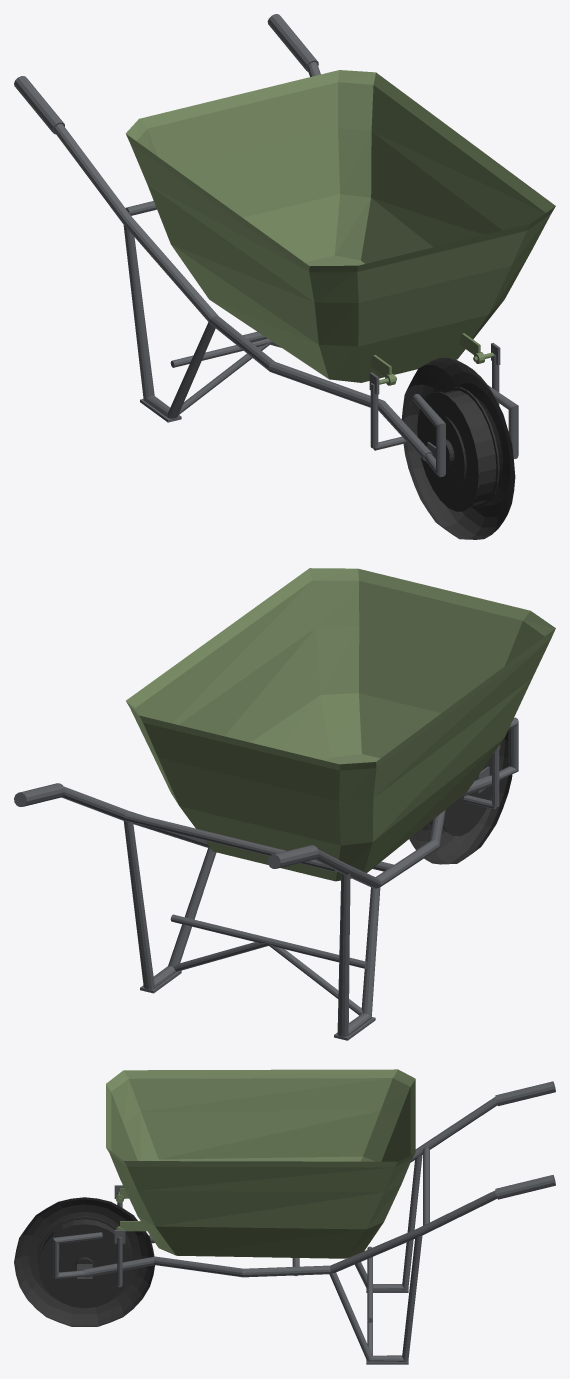
The picture shows the model from 3 angles, top to bottom: view 1: azimuth 30°, elevation 25°; view 2: azimuth 150°, elevation 25°; view 3: azimuth 270°, elevation 25°; orthographic projection. The views are drawn at different scales.
Visible parts, largest first — view 1: tray, chassis, wheel; view 2: tray, chassis, wheel; view 3: tray, wheel, chassis.
Boxes of the visible parts, bbox=[...] form: tray: bbox=[125, 70, 555, 385]; chassis: bbox=[14, 14, 518, 476]; wheel: bbox=[401, 357, 515, 539]; tray: bbox=[126, 568, 555, 881]; chassis: bbox=[14, 717, 518, 1040]; wheel: bbox=[409, 730, 512, 864]; tray: bbox=[106, 1069, 415, 1258]; wheel: bbox=[14, 1197, 154, 1326]; chassis: bbox=[53, 1081, 555, 1364].
Bounding box in the file's own units: 0.66 × 0.6609 × 1.54.
